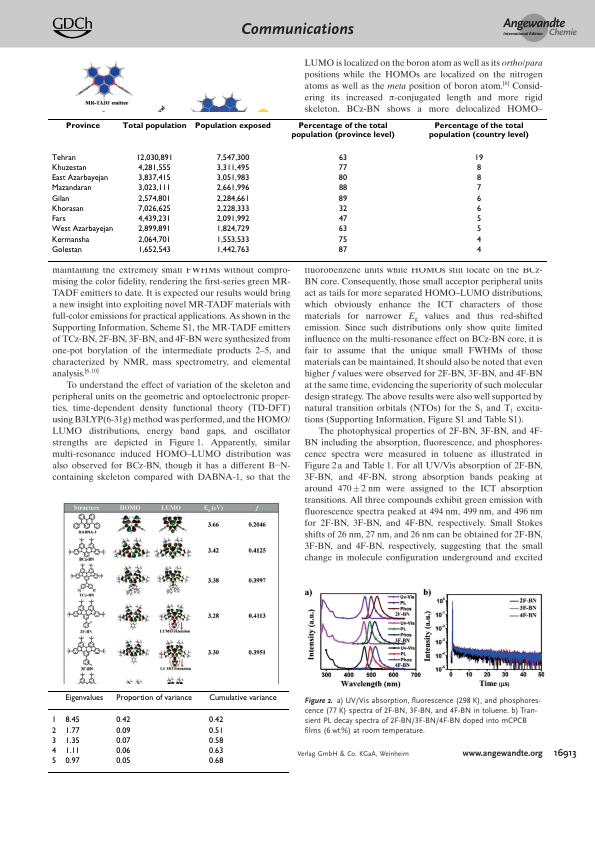borderless: (47, 117, 547, 261), (47, 689, 289, 773)
cell: (290, 122, 395, 140), (428, 122, 529, 140), (115, 693, 192, 703), (194, 122, 271, 131), (208, 693, 277, 703), (121, 122, 187, 131), (50, 225, 114, 234), (50, 174, 109, 183), (64, 693, 104, 703), (50, 235, 90, 245), (135, 153, 173, 163), (50, 184, 92, 193), (50, 163, 87, 173), (215, 153, 250, 163), (215, 163, 250, 173), (215, 194, 250, 204), (215, 204, 250, 214), (215, 235, 250, 245), (215, 245, 250, 255), (137, 163, 171, 173), (137, 194, 171, 204), (50, 204, 84, 214), (137, 204, 171, 214), (137, 235, 171, 245), (137, 245, 171, 255), (50, 245, 82, 255), (65, 122, 100, 131), (215, 174, 250, 183), (215, 184, 250, 193), (215, 215, 250, 224), (215, 225, 250, 234), (137, 174, 171, 183), (137, 184, 171, 193), (137, 215, 171, 224), (137, 225, 171, 234), (50, 153, 76, 163), (50, 194, 70, 204), (64, 726, 80, 736), (115, 726, 131, 736), (208, 726, 224, 736), (64, 736, 80, 746), (115, 736, 131, 746), (208, 736, 224, 746), (64, 746, 80, 756), (115, 746, 131, 756), (208, 746, 224, 756), (64, 716, 80, 725), (115, 716, 131, 725), (208, 716, 224, 725), (64, 757, 80, 766), (115, 757, 131, 766), (208, 757, 224, 766), (50, 215, 66, 224), (337, 153, 348, 163), (473, 153, 484, 163), (337, 163, 348, 173), (337, 194, 348, 204), (337, 204, 348, 214), (337, 235, 348, 245), (337, 245, 348, 255), (337, 174, 348, 183), (337, 184, 348, 193), (337, 215, 348, 224), (337, 225, 348, 234), (50, 726, 57, 736), (50, 736, 57, 746), (50, 746, 57, 756), (475, 204, 482, 214), (475, 245, 482, 255), (50, 716, 57, 725), (50, 757, 57, 766), (475, 174, 482, 183), (475, 184, 482, 193), (475, 215, 482, 224), (475, 225, 482, 234), (475, 163, 481, 173), (475, 194, 481, 204), (475, 235, 481, 245)
